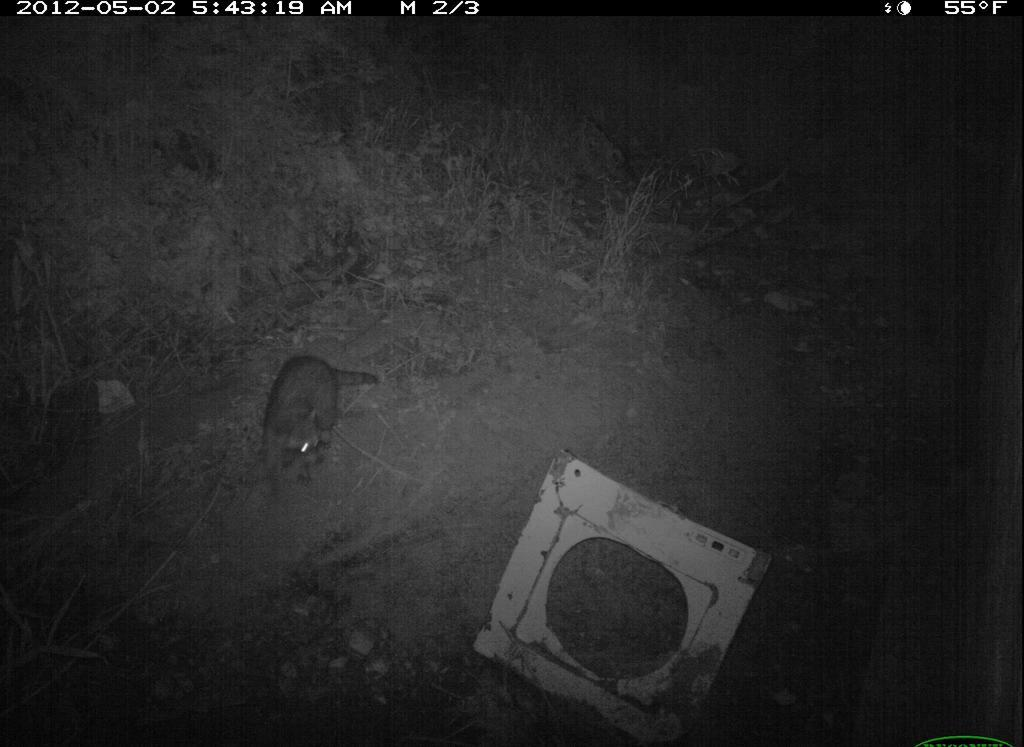raccoon: (258, 350, 382, 506)
